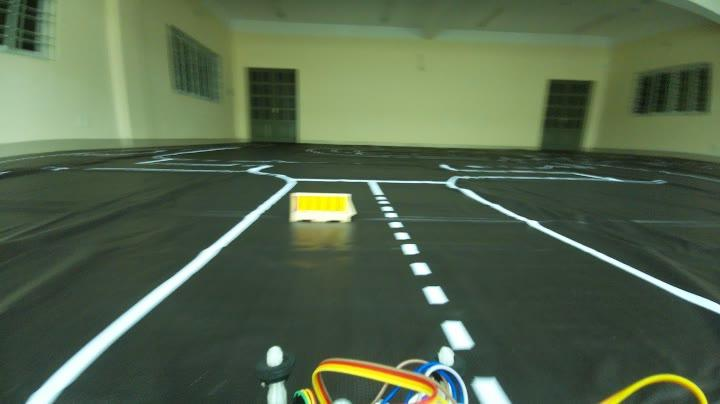roadblock: (288, 183, 364, 227)
